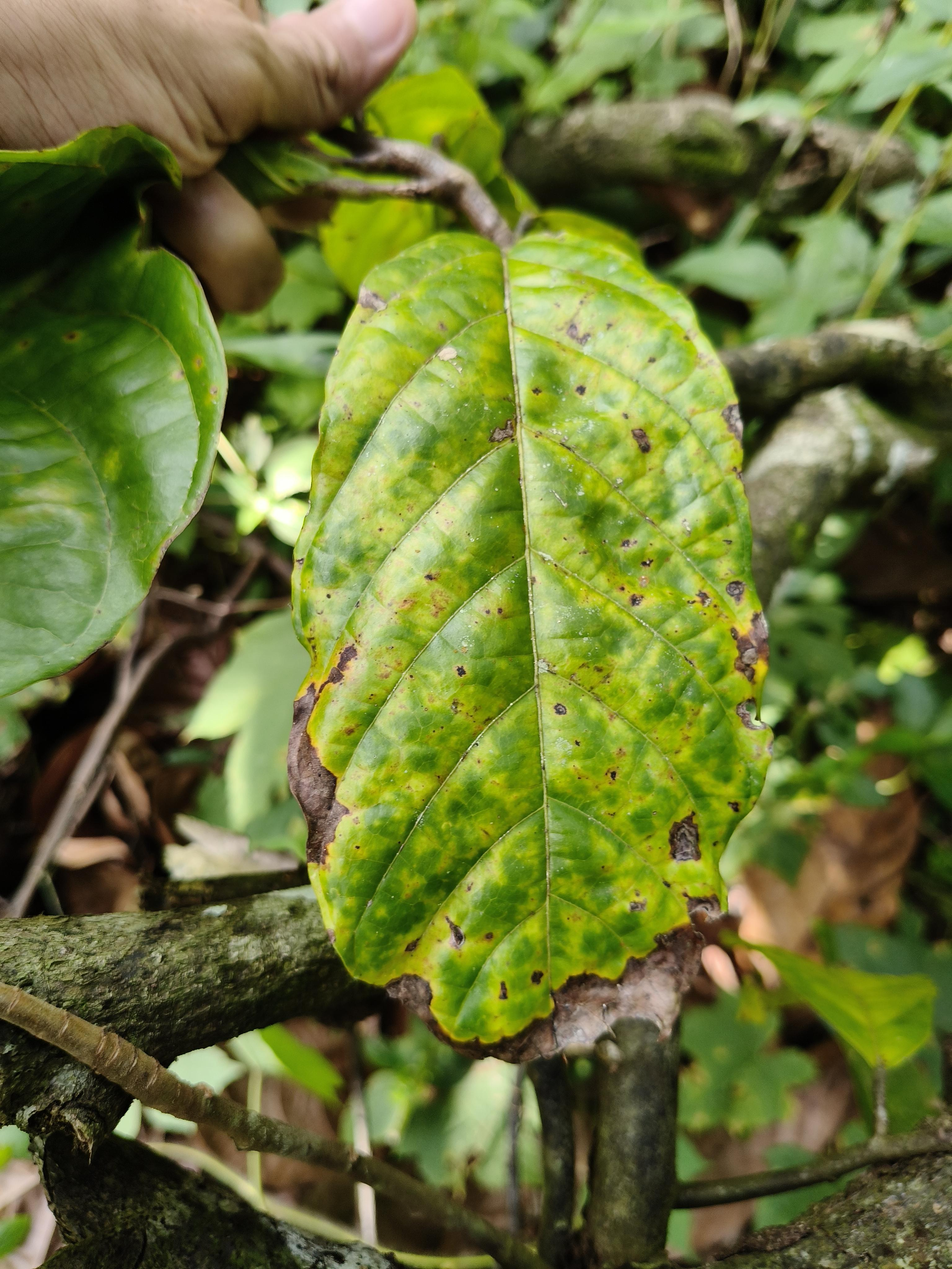deficiencia_potasio: (288, 208, 761, 1066)
